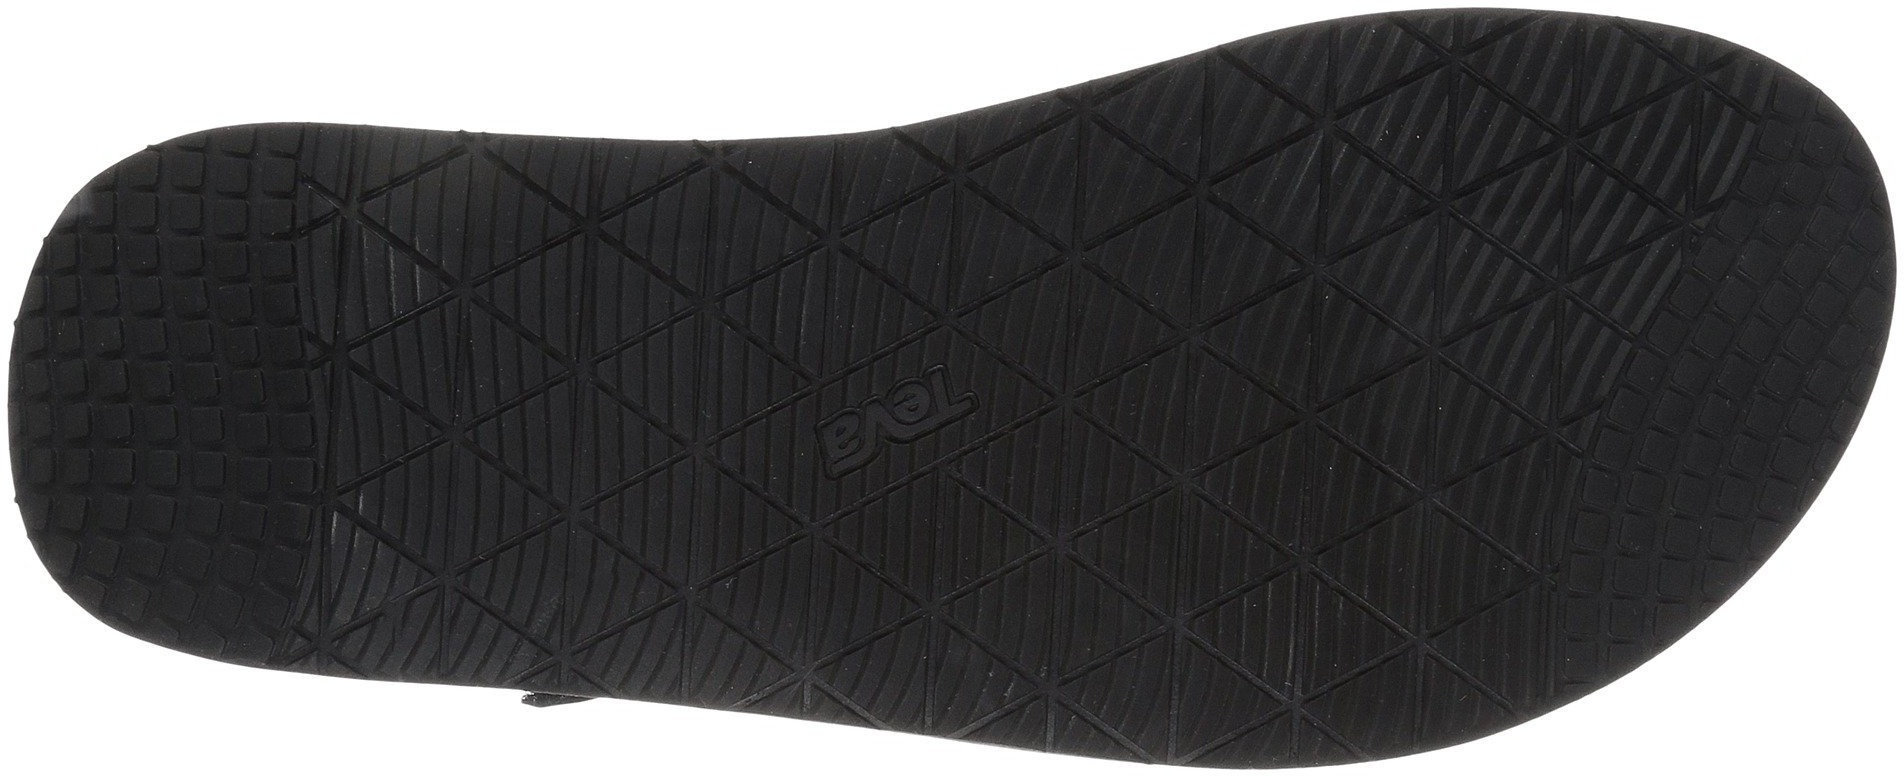quad: (91, 181, 304, 404), (93, 421, 288, 625), (1666, 345, 1820, 503), (1734, 185, 1885, 332), (1585, 511, 1701, 636)
triangle: (314, 154, 612, 446), (1138, 77, 1412, 367), (1421, 41, 1683, 298), (623, 148, 871, 401), (894, 131, 1134, 378), (1219, 378, 1460, 600), (542, 452, 763, 686), (776, 491, 986, 706), (334, 454, 538, 670), (1003, 387, 1209, 595), (1007, 605, 1155, 754), (1239, 608, 1371, 753), (1468, 319, 1593, 438)
